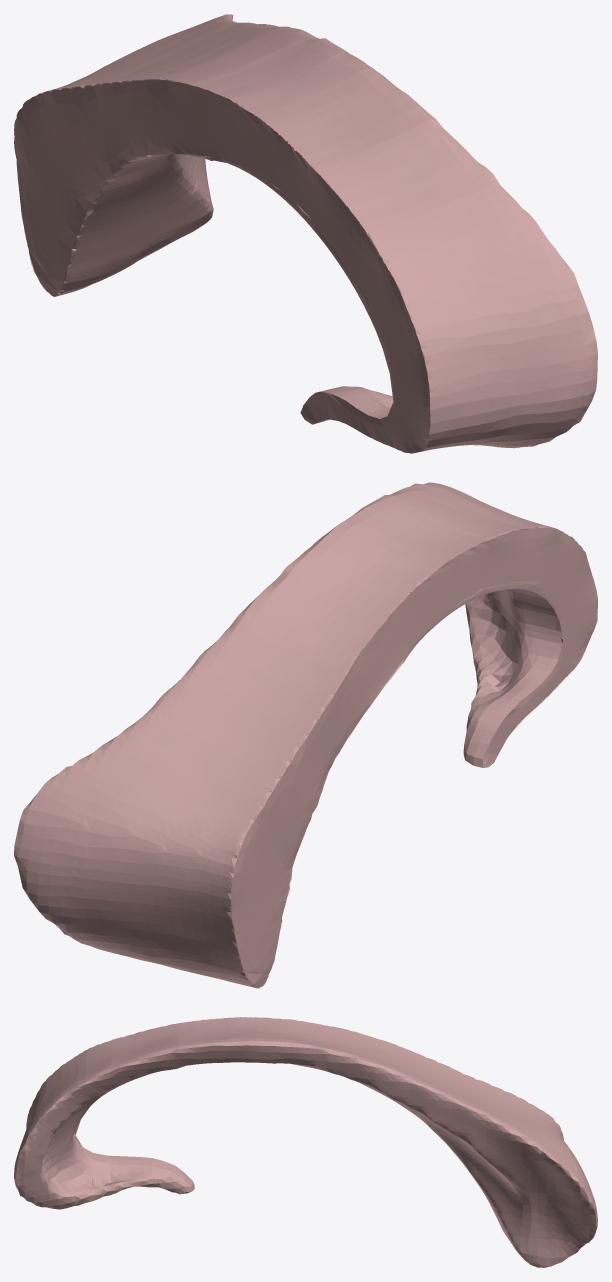
Rendered from Corpus_callosum3.obj.
3 renders of one model, top to bottom at view 1: azimuth 30°, elevation 25°; view 2: azimuth 150°, elevation 25°; view 3: azimuth 270°, elevation 25°, orthographic. The views are drawn at different scales.
Visible parts, largest first — view 1: obj0; view 2: obj0; view 3: obj0.
Part boxes in pixels (x1,y1,x2,y2): obj0: (14, 14, 597, 453); obj0: (14, 482, 597, 988); obj0: (14, 1017, 597, 1267).
Size of the model in its own units: 12.7 by 18.5 by 43.58.
1 material, 1 textured.
